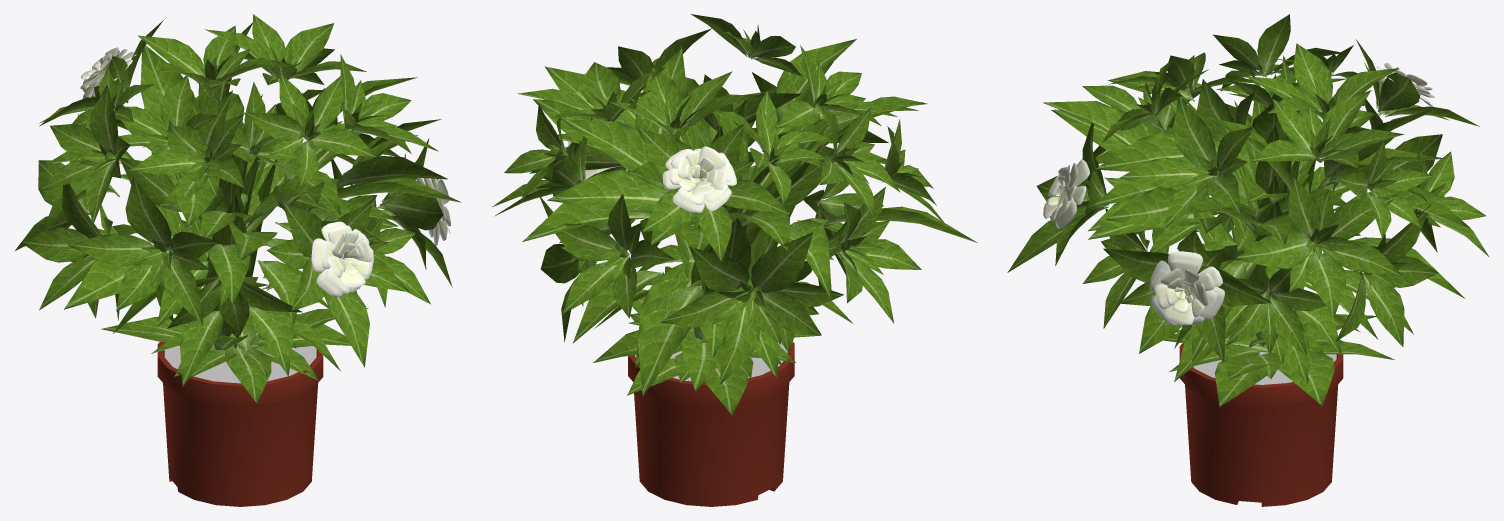
The model's file is flower.FBX.
The picture shows the model from 3 angles, left to right: view 1: azimuth 30°, elevation 25°; view 2: azimuth 150°, elevation 25°; view 3: azimuth 270°, elevation 25°; orthographic projection.
Parts seen in each view (by area): view 1: gorshok; view 2: gorshok; view 3: gorshok.
Part boxes in pixels (x1,y1,x2,y2): gorshok: (15, 14, 461, 506); gorshok: (492, 14, 977, 506); gorshok: (1007, 14, 1488, 506).
Size of the model in its own units: 255 by 248 by 262.
